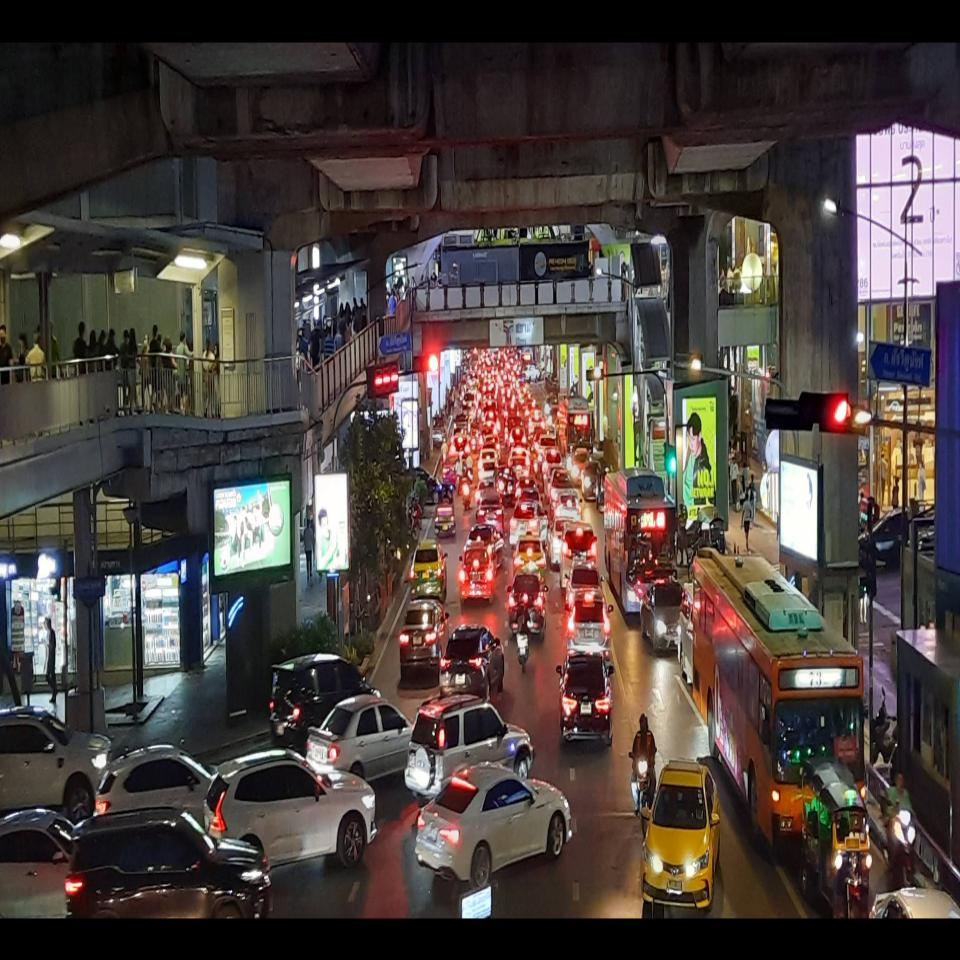signage: (503, 319, 531, 345), (516, 322, 531, 345)
